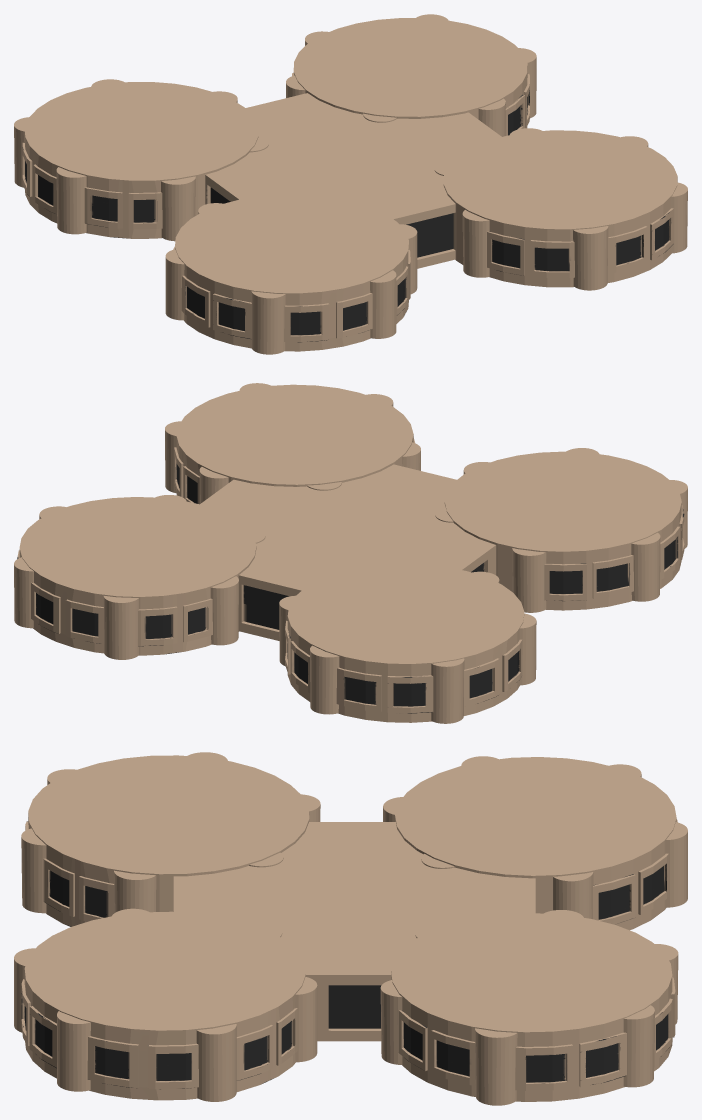
File: floor3Up.obj
3 views of the same model, one above another, from view 1: azimuth 30°, elevation 25°; view 2: azimuth 150°, elevation 25°; view 3: azimuth 270°, elevation 25° (orthographic). The views are drawn at different scales.
Visible parts, largest first — view 1: PodA_Cylinder.012, PodC_Cylinder.011, PodB_Cylinder.013, TowerBase_Cube.001, PodD_Cylinder.008; view 2: PodB_Cylinder.013, PodD_Cylinder.008, PodA_Cylinder.012, TowerBase_Cube.001, PodC_Cylinder.011; view 3: PodC_Cylinder.011, PodD_Cylinder.008, PodB_Cylinder.013, PodA_Cylinder.012, TowerBase_Cube.001.
Part boxes in pixels (box(x1,y1,x2,y2)): PodA_Cylinder.012: box(165, 192, 417, 354); PodC_Cylinder.011: box(434, 128, 687, 290); PodB_Cylinder.013: box(14, 79, 268, 241); TowerBase_Cube.001: box(205, 93, 501, 268); PodD_Cylinder.008: box(286, 14, 536, 136); PodB_Cylinder.013: box(279, 561, 536, 723); PodD_Cylinder.008: box(14, 495, 265, 659); PodA_Cylinder.012: box(435, 448, 687, 612); TowerBase_Cube.001: box(200, 464, 496, 640); PodC_Cylinder.011: box(165, 383, 420, 504); PodC_Cylinder.011: box(14, 908, 317, 1101); PodD_Cylinder.008: box(380, 910, 678, 1105); PodB_Cylinder.013: box(383, 756, 687, 930); PodA_Cylinder.012: box(21, 752, 320, 926); TowerBase_Cube.001: box(173, 822, 535, 1041).
Size of the model in its own units: 41.99 by 4.79 by 41.87.
